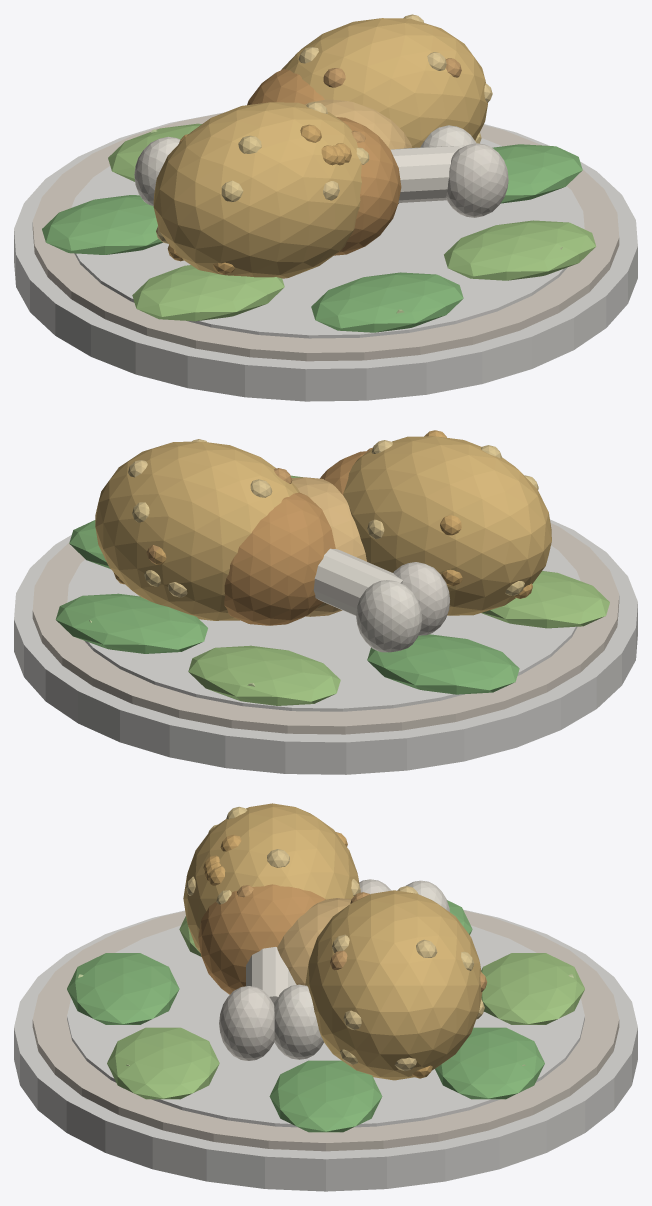
The model's file is crisp.glb.
The picture shows the model from 3 angles, top to bottom: view 1: azimuth 30°, elevation 25°; view 2: azimuth 150°, elevation 25°; view 3: azimuth 270°, elevation 25°; orthographic projection.
Visible parts, largest first — view 1: obj_0000, obj_0017, obj_0002, obj_0001, obj_0045, obj_0005, obj_0007, obj_0009, obj_0011, obj_0018, obj_0021, obj_0003 (+6 smaller); view 2: obj_0000, obj_0017, obj_0045, obj_0001, obj_0002, obj_0046, obj_0013, obj_0015, obj_0011, obj_0009, obj_0048, obj_0047 (+4 smaller); view 3: obj_0000, obj_0045, obj_0001, obj_0002, obj_0017, obj_0018, obj_0005, obj_0007, obj_0003, obj_0013, obj_0015, obj_0021 (+4 smaller).
Boxes of the visible parts, x1=… form: obj_0000: x1=14, y1=112, x2=637, y2=401; obj_0017: x1=153, y1=102, x2=361, y2=278; obj_0002: x1=71, y1=138, x2=584, y2=338; obj_0001: x1=32, y1=113, x2=619, y2=361; obj_0045: x1=281, y1=18, x2=487, y2=147; obj_0005: x1=444, y1=220, x2=596, y2=280; obj_0007: x1=311, y1=272, x2=463, y2=332; obj_0009: x1=132, y1=265, x2=284, y2=321; obj_0011: x1=42, y1=195, x2=162, y2=254; obj_0018: x1=334, y1=117, x2=401, y2=255; obj_0021: x1=446, y1=143, x2=508, y2=217; obj_0003: x1=492, y1=144, x2=582, y2=203; obj_0000: x1=14, y1=519, x2=637, y2=774; obj_0017: x1=343, y1=436, x2=551, y2=615; obj_0045: x1=95, y1=441, x2=299, y2=620; obj_0001: x1=32, y1=523, x2=619, y2=734; obj_0002: x1=67, y1=545, x2=580, y2=711; obj_0046: x1=224, y1=492, x2=335, y2=625; obj_0013: x1=188, y1=645, x2=340, y2=705; obj_0015: x1=55, y1=593, x2=207, y2=653; obj_0011: x1=367, y1=634, x2=519, y2=694; obj_0009: x1=481, y1=571, x2=609, y2=628; obj_0048: x1=356, y1=580, x2=422, y2=652; obj_0047: x1=313, y1=548, x2=403, y2=615; obj_0000: x1=14, y1=909, x2=637, y2=1191; obj_0045: x1=305, y1=890, x2=482, y2=1080; obj_0001: x1=32, y1=910, x2=619, y2=1151; obj_0002: x1=67, y1=925, x2=584, y2=1127; obj_0017: x1=183, y1=803, x2=360, y2=952; obj_0018: x1=198, y1=884, x2=325, y2=994; obj_0005: x1=107, y1=1027, x2=219, y2=1099; obj_0007: x1=67, y1=953, x2=179, y2=1024; obj_0003: x1=269, y1=1060, x2=382, y2=1132; obj_0013: x1=481, y1=953, x2=584, y2=1024; obj_0015: x1=435, y1=1027, x2=544, y2=1099; obj_0021: x1=219, y1=986, x2=274, y2=1060.
Bounding box in the file's own units: 2.1 × 0.74 × 2.1.
